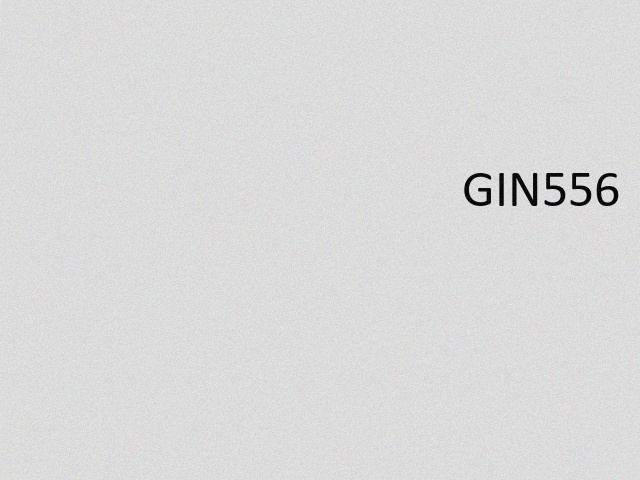OCR_AREA: (458, 169, 624, 210)
